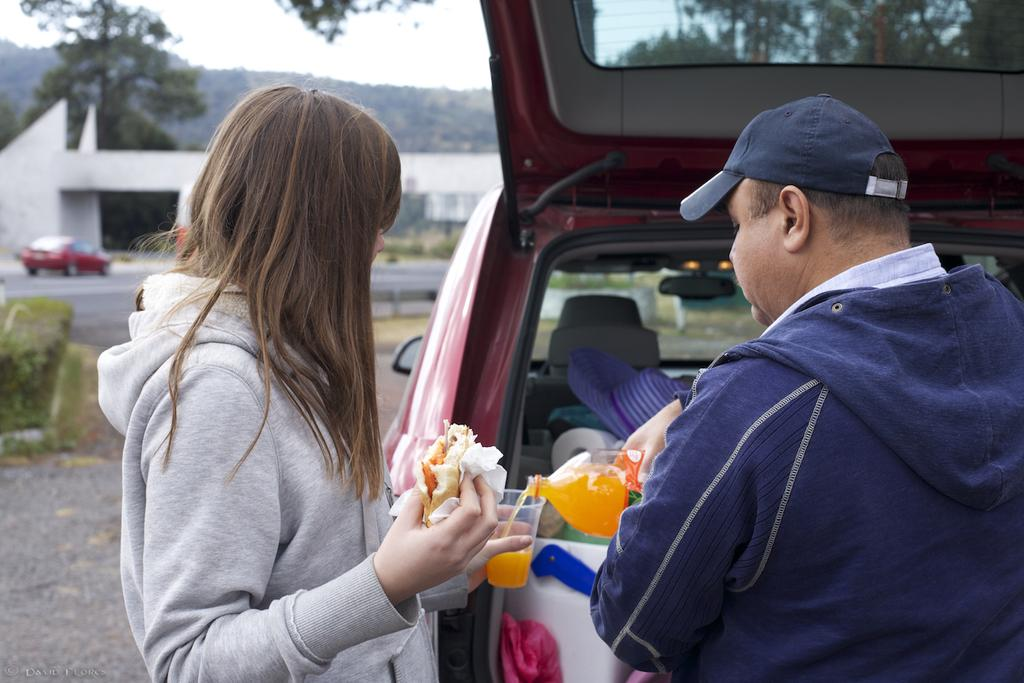Hat: (679, 92, 906, 223), (569, 350, 691, 440)
